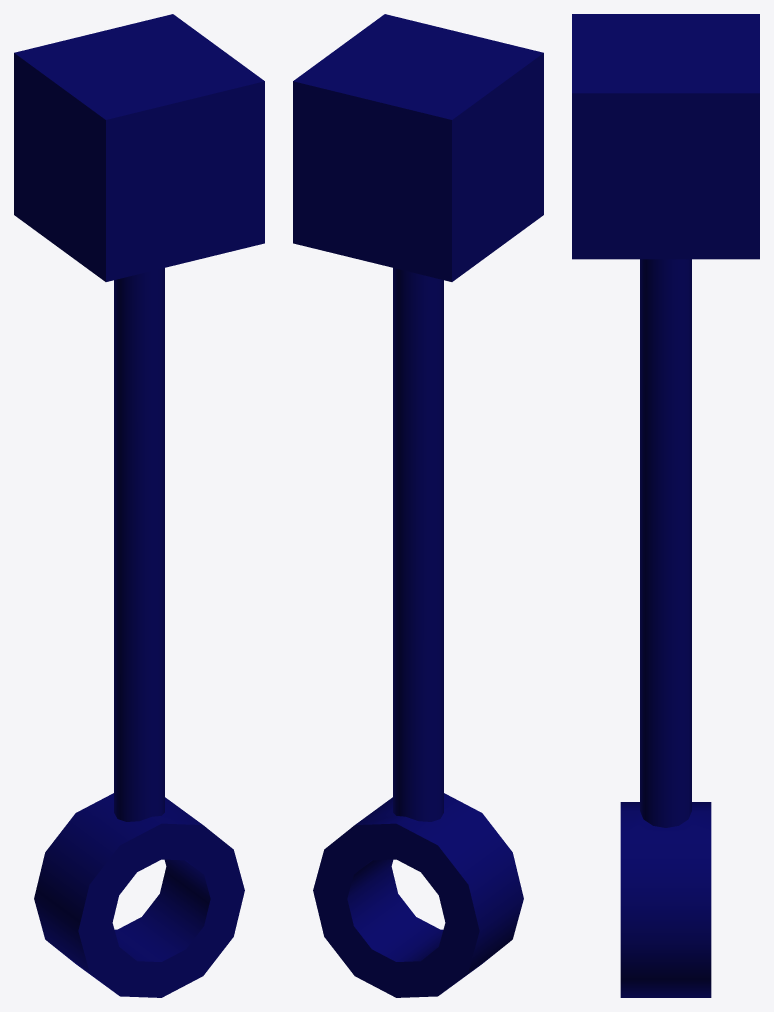
The model's file is pendulum.dae.
The picture shows the model from 3 angles, left to right: view 1: azimuth 30°, elevation 25°; view 2: azimuth 150°, elevation 25°; view 3: azimuth 270°, elevation 25°; orthographic projection. The views are drawn at different scales.
Visible parts, largest first — view 1: group_0 (×3); view 2: group_0 (×3); view 3: group_0 (×2).
Boxes of the visible parts, bbox=[...] form: group_0 (×3): bbox=[14, 14, 264, 997]; group_0 (×3): bbox=[293, 14, 543, 997]; group_0 (×2): bbox=[572, 14, 759, 997].
Bounding box in the file's own units: 434 × 415 × 2279.
